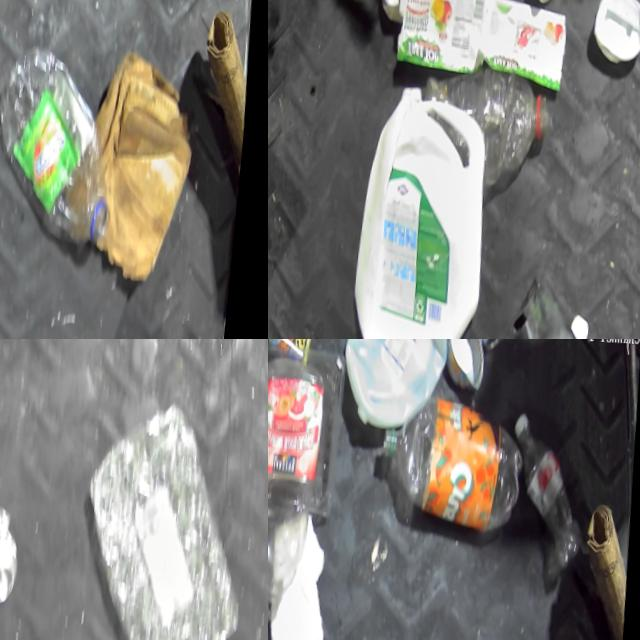can: (0, 490, 26, 597), (268, 62, 273, 104)
milk_jug: (353, 85, 499, 339)
plastic_bottle: (66, 387, 263, 640), (0, 37, 130, 226), (268, 341, 333, 593), (504, 395, 593, 554), (425, 53, 562, 130)
